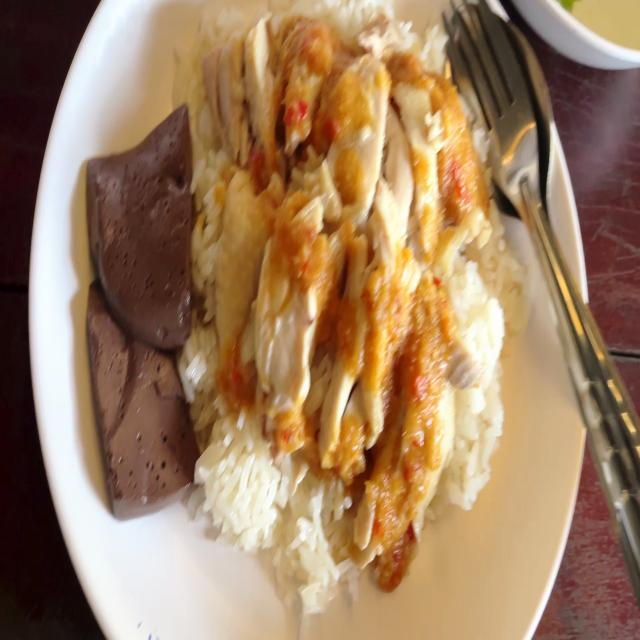boiled_chicken: (226, 18, 462, 476)
boiled_chicken_blood_jelly: (79, 281, 190, 517), (82, 100, 186, 343)
chicken_rice: (86, 0, 514, 640)
